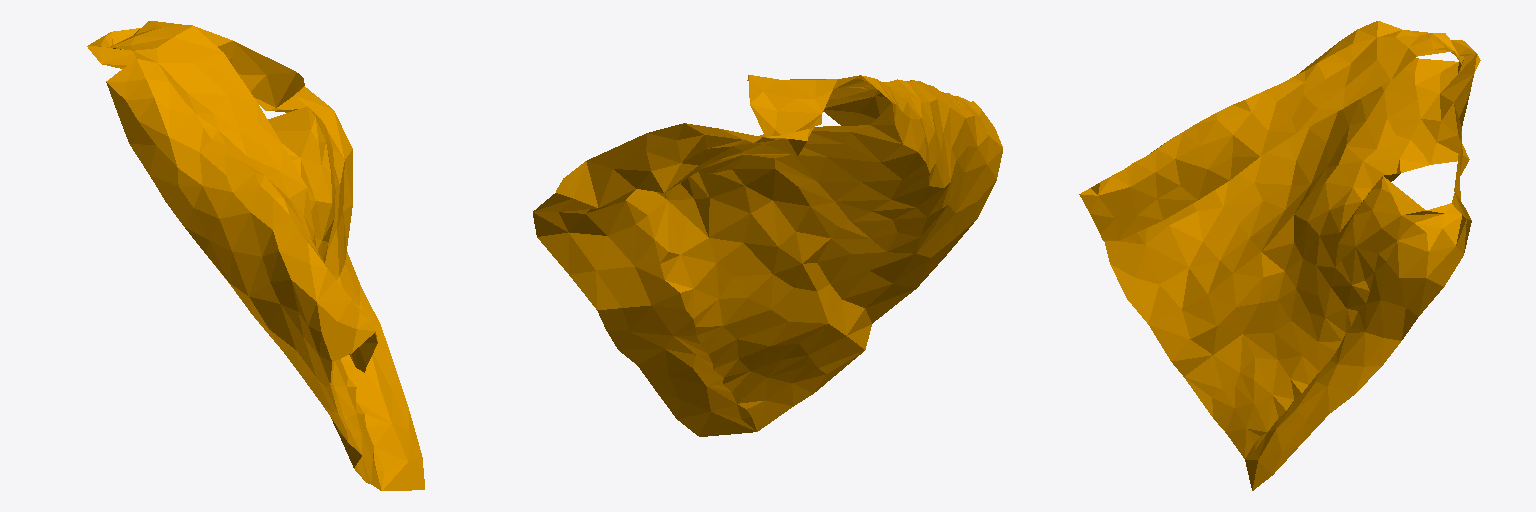
The robot description file, URDF, robot "init":
<?xml version='1.0' encoding='utf-8'?>
<robot name="init">
<link name="link_0"><inertial><mass value="1.0" /><origin rpy="0 0 0" xyz="0.000000 0.000000 0.000000" /><inertia ixx="1.0" ixy="0.0" ixz="0.0" iyy="1.0" iyz="0.0" izz="1.0" /></inertial><visual><origin rpy="0 0 0" xyz="0.000000 0.000000 0.000000" /><geometry><mesh filename="./clothHuman/cloth/1436.obj" /></geometry></visual><collision><origin rpy="0 0 0" xyz="0.000000 0.000000 0.000000" /><geometry><mesh filename="./clothHuman/cloth/1436.obj" /></geometry></collision></link></robot>

--- What the picture shows (computed from the rendered views, not written in the file) ---
Views: 3 orthographic renders of the robot side by side, from view 1: azimuth 30°, elevation 25°; view 2: azimuth 150°, elevation 25°; view 3: azimuth 270°, elevation 25°.
Model init with 1 links and 0 joints (none), rooted at link_0, posed all joints at 0.
Links seen in each view (by area): view 1: link_0; view 2: link_0; view 3: link_0.
Boxes of the visible links, x1,y1,x2,y2 form: link_0: [87, 21, 424, 490]; link_0: [533, 75, 1002, 436]; link_0: [1079, 21, 1480, 490].
Bounding box of the posed robot: 2.56 × 3.59 × 3.73 m (x, y, z).
1 mesh visuals loaded from 1 distinct referenced files (1 OBJ).